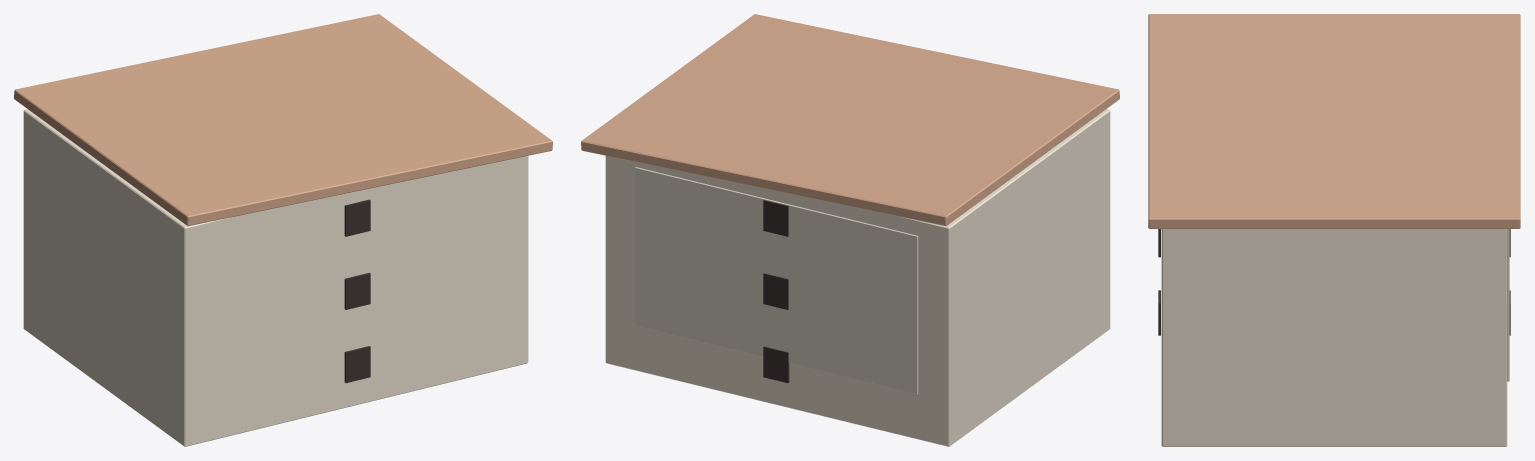
Rendered from insula_b.glb.
The picture shows the model from 3 angles, left to right: view 1: azimuth 30°, elevation 25°; view 2: azimuth 150°, elevation 25°; view 3: azimuth 270°, elevation 25°; orthographic projection. The views are drawn at different scales.
Parts seen in each view (by area): view 1: body, roof, win_0_-1, win_1_-1, win_2_-1; view 2: roof, body, bay, win_0_1, win_1_1, win_2_1; view 3: roof, body, bay.
Part boxes in pixels (<box>): body: <box>23,109,528,446</box>; roof: <box>14,14,552,226</box>; win_0_-1: <box>344,346,370,383</box>; win_1_-1: <box>344,272,370,309</box>; win_2_-1: <box>344,199,370,236</box>; roof: <box>581,14,1119,226</box>; body: <box>605,109,1110,446</box>; bay: <box>635,167,918,394</box>; win_0_1: <box>763,346,789,383</box>; win_1_1: <box>763,273,788,309</box>; win_2_1: <box>763,200,788,236</box>; roof: <box>1148,14,1520,228</box>; body: <box>1161,229,1507,446</box>; bay: <box>1507,229,1509,381</box>.
Bounding box in the file's own units: 17 × 10.48 × 14.
